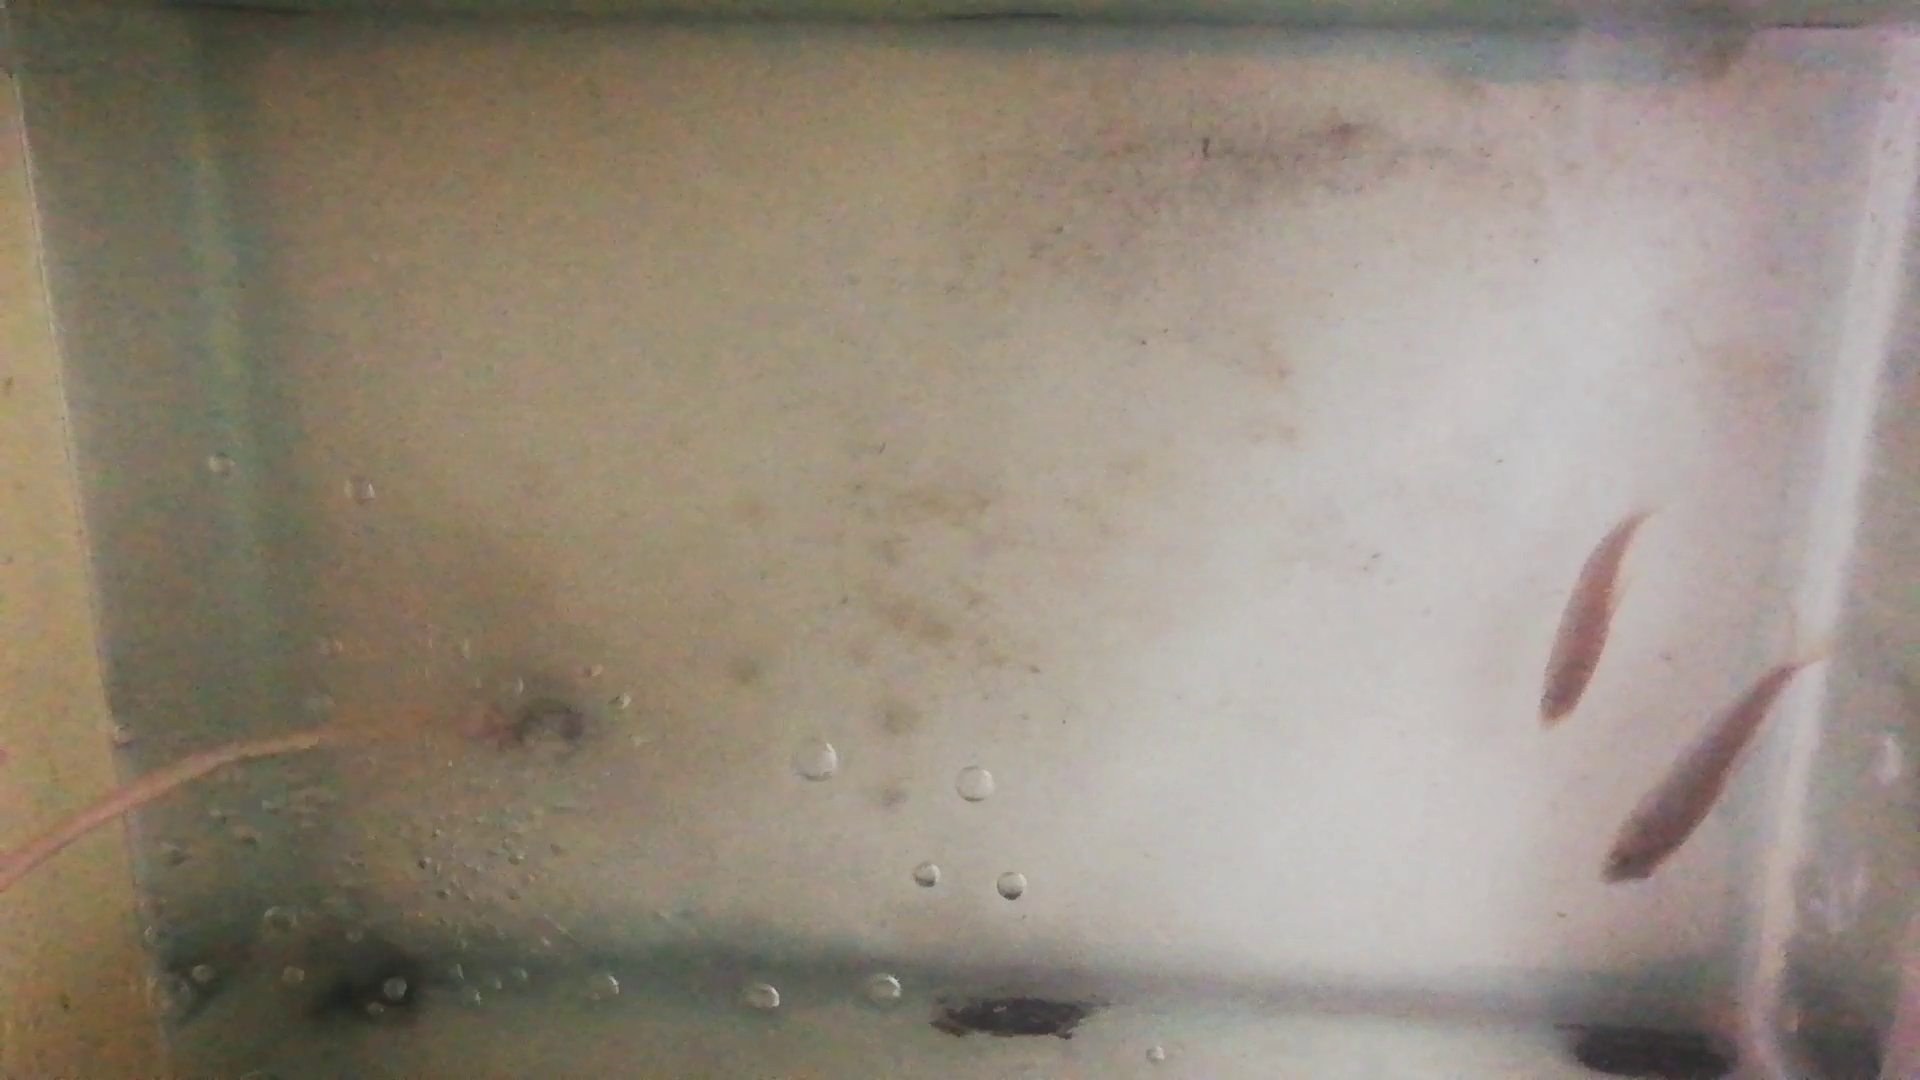fish: (1596, 665, 1795, 886), (1536, 517, 1642, 719)
